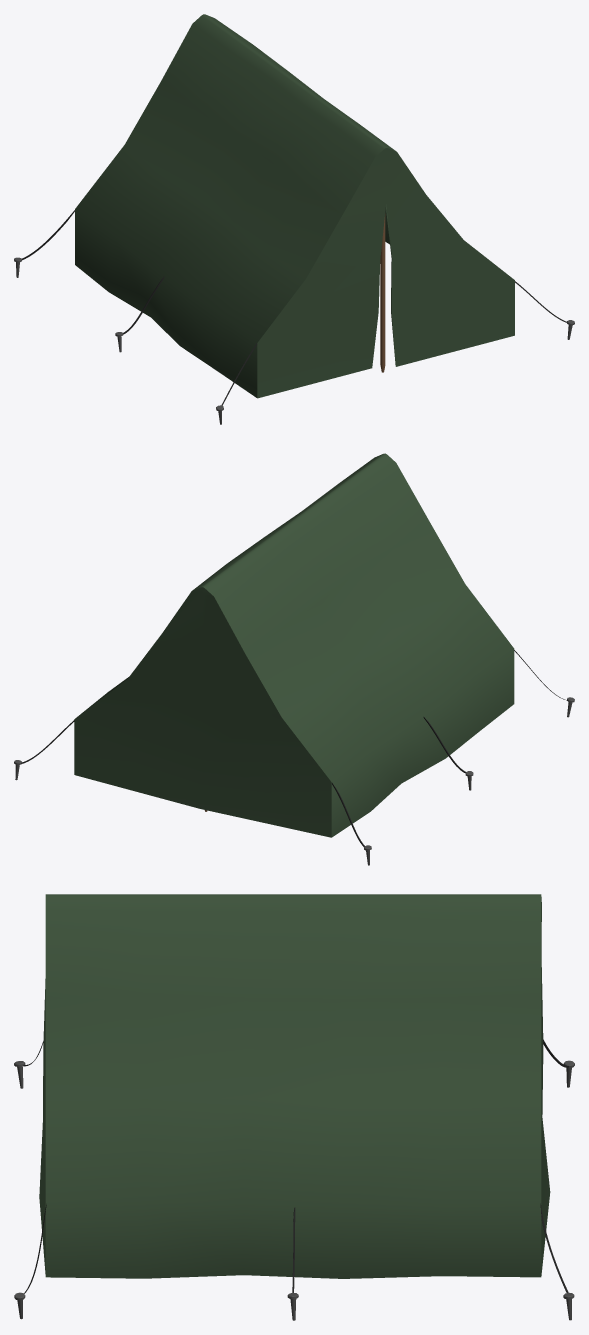
Rendered from teamtent.fbx.
3 views of the same model, one above another, from view 1: azimuth 30°, elevation 25°; view 2: azimuth 150°, elevation 25°; view 3: azimuth 270°, elevation 25° (orthographic). The views are drawn at different scales.
Visible parts, largest first — view 1: Tent; view 2: Tent; view 3: Tent.
Boxes of the visible parts, box(x1,y1,x2,y2) form: Tent: box(14, 14, 574, 424); Tent: box(14, 453, 574, 865); Tent: box(14, 894, 574, 1320).
Bounding box in the file's own units: 3.28 × 1.99 × 3.27.
